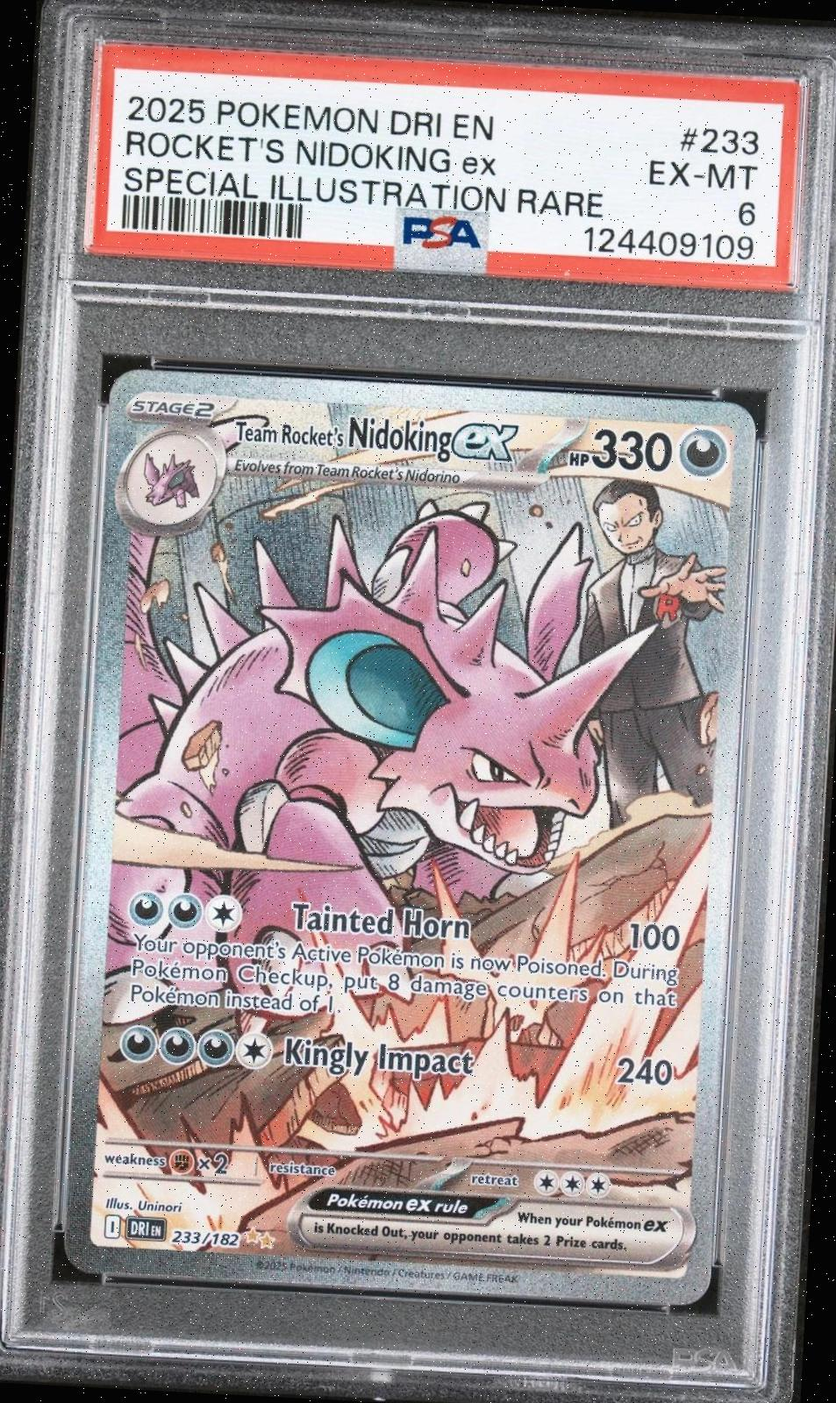card-2UtV: (63, 368, 756, 1306)
